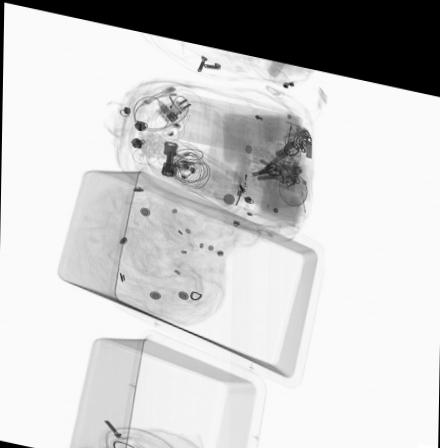Lighter: (237, 144, 251, 183)
